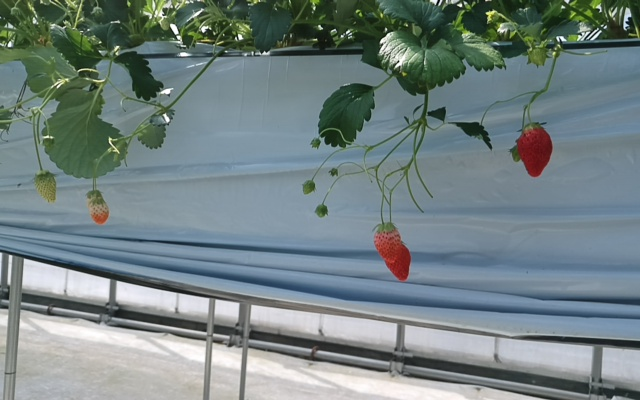GreenStrawberry: (89, 192, 111, 227), (36, 172, 58, 206)
MatureStrawberry: (516, 123, 554, 179), (373, 223, 403, 264), (385, 242, 413, 284)
